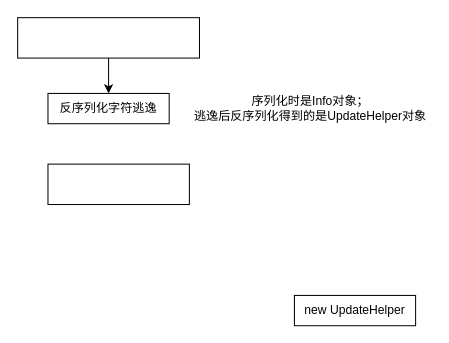
This 449x343 diagram has some shape labels left out. The shapes that lost their labels are listed below. From the top down, each one's centre as x and y in pixels, then its label:
At pixel 108 37: "$_POST['age']=1 $_POST['nickname']=payload".
At pixel 118 184: "UpdateHelper".
